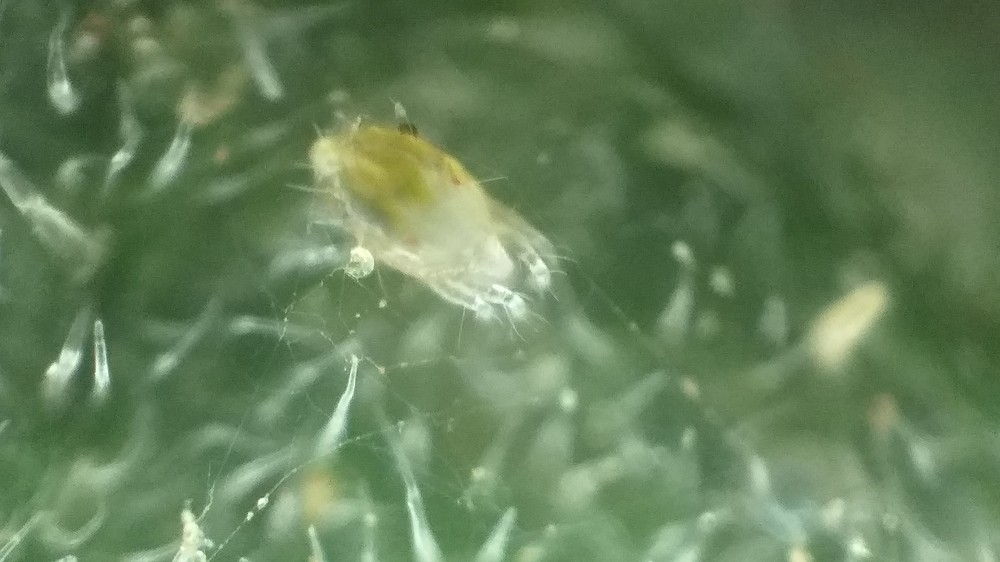Aracnido Rojo: (274, 100, 610, 357)
